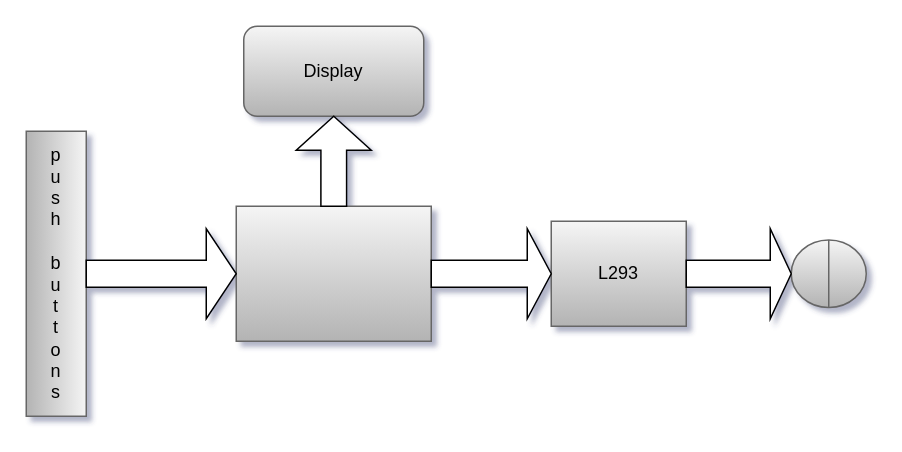
Some shapes in this 902 by 452 pixel diagram are drawn without their labels. The shapes that lost their labels are listed below. From the top down, each one's centre as x and y in pixels, then its label:
At [333,273]: "AVR ATmega328".
At [828,273]: "DC Motor".
